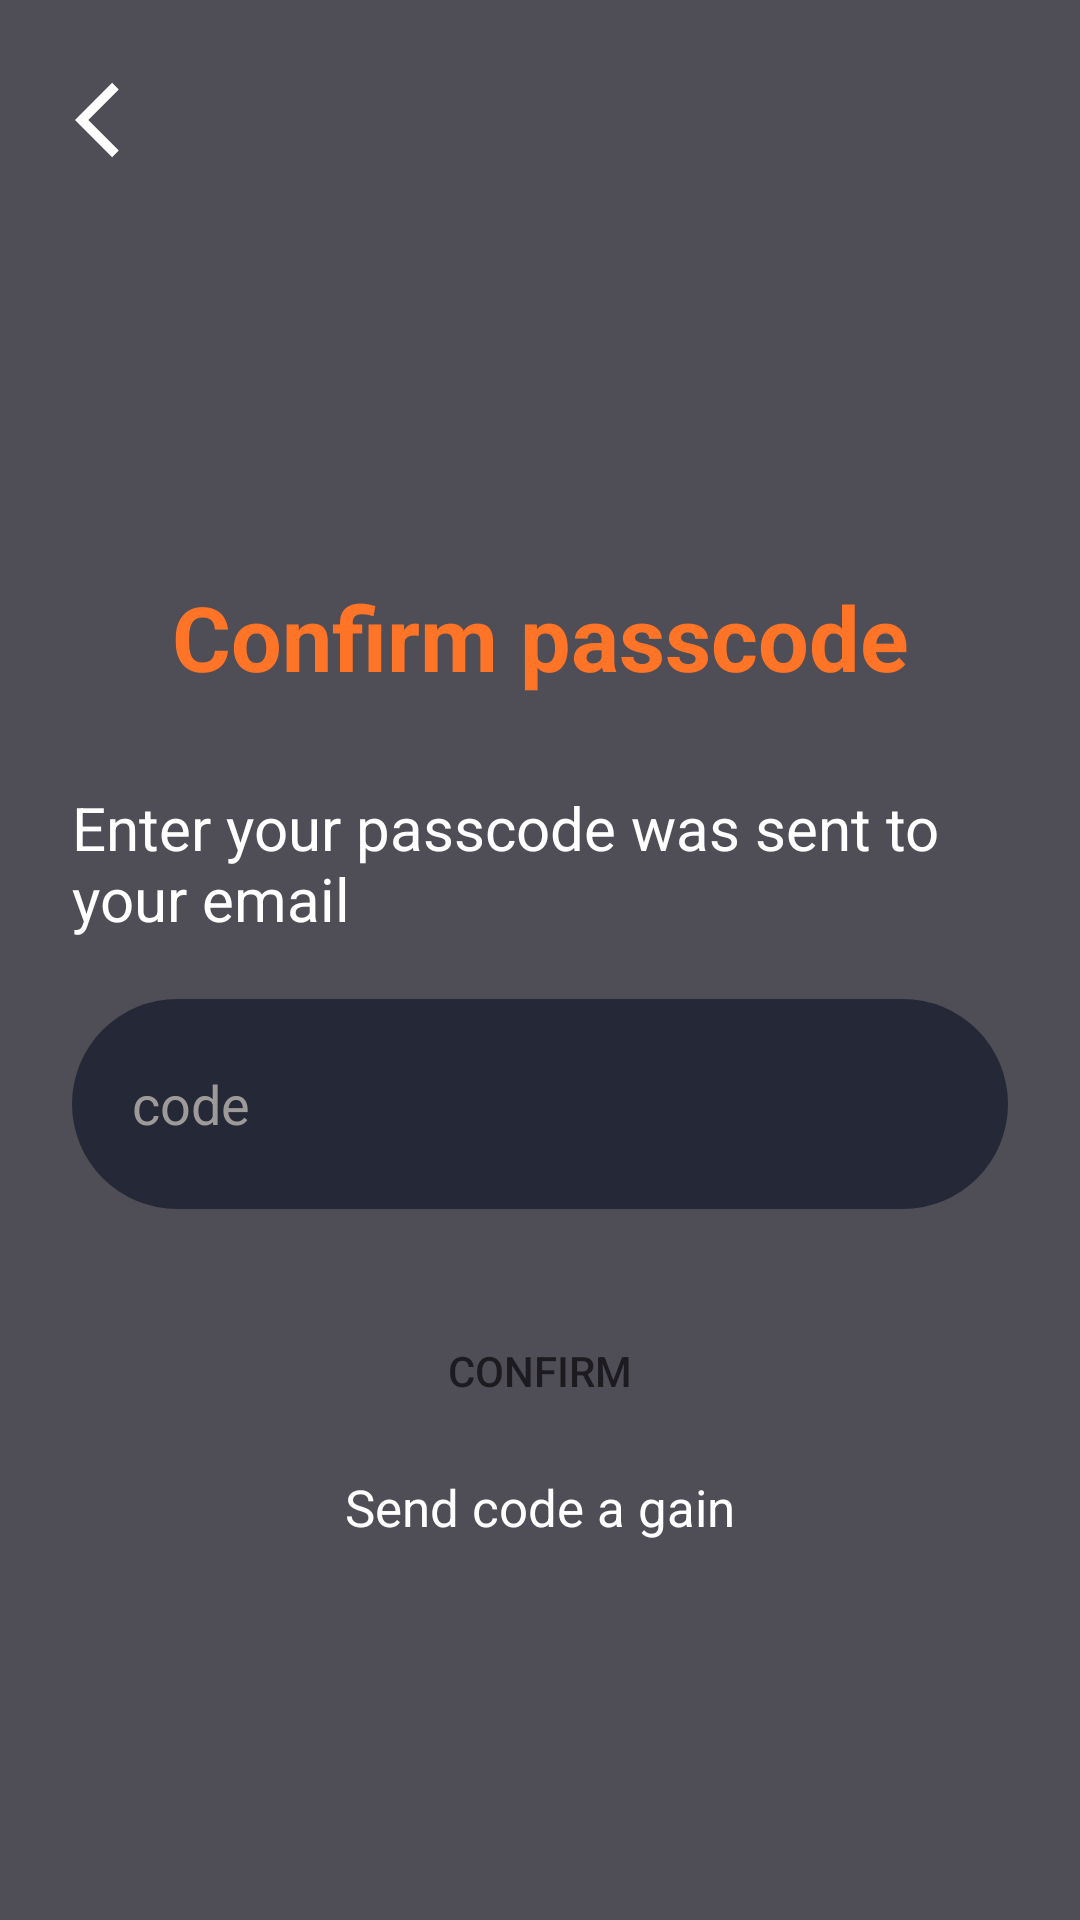

Screen size 1080 x 1920. Icon name, then its box in pixels as (x1, y1, x2, y2):
arrow back: (75, 83, 119, 157)
